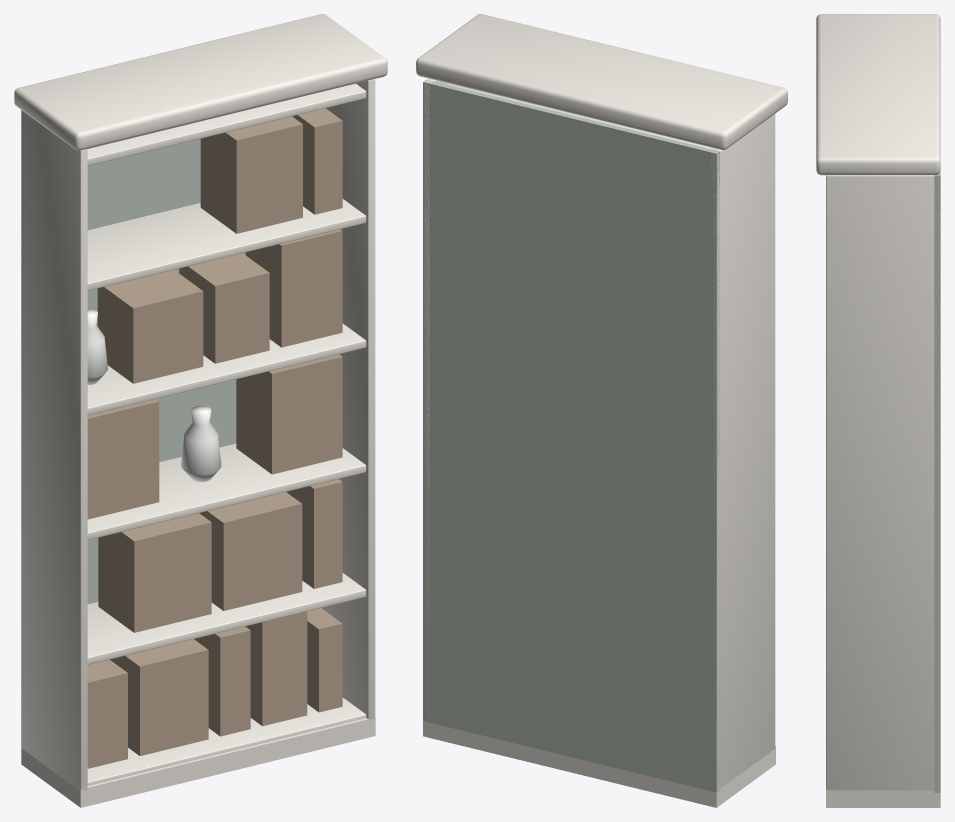
File: bookshelf.glb
The picture shows the model from 3 angles, left to right: view 1: azimuth 30°, elevation 25°; view 2: azimuth 150°, elevation 25°; view 3: azimuth 270°, elevation 25°; orthographic projection. The views are drawn at different scales.
Visible parts, largest first — view 1: side, cornice, side.001, back, books1, shelf4, books2.001, books4, books3, books1.001, shelf2, books0.001 (+16 smaller); view 2: back, side, cornice, plinth, side.001; view 3: side.001, cornice, back, plinth.
Boxes of the visible parts, bbox=[...] form: side: bbox=[21, 111, 87, 790]; cornice: bbox=[14, 14, 387, 150]; side.001: bbox=[322, 79, 375, 720]; back: bbox=[21, 110, 245, 749]; books1: bbox=[98, 513, 211, 632]; shelf4: bbox=[87, 199, 366, 290]; books2.001: bbox=[236, 354, 342, 474]; books4: bbox=[200, 116, 302, 233]; books3: bbox=[97, 270, 203, 383]; books1.001: bbox=[199, 492, 302, 610]; shelf2: bbox=[87, 443, 366, 539]; books0.001: bbox=[110, 639, 208, 755]; back: bbox=[423, 79, 719, 792]; side: bbox=[710, 114, 775, 790]; cornice: bbox=[416, 14, 787, 150]; plinth: bbox=[423, 721, 775, 807]; side.001: bbox=[424, 78, 447, 720]; side.001: bbox=[826, 175, 939, 790]; cornice: bbox=[816, 14, 940, 175]; back: bbox=[934, 171, 940, 792]; plinth: bbox=[826, 790, 940, 807].
Size of the model in its own units: 1.06 by 2.2 by 0.38.
